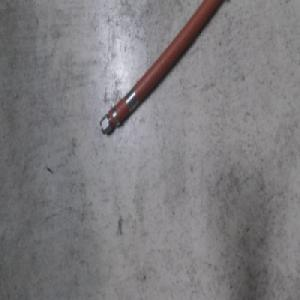Hose: (97, 0, 224, 137)
